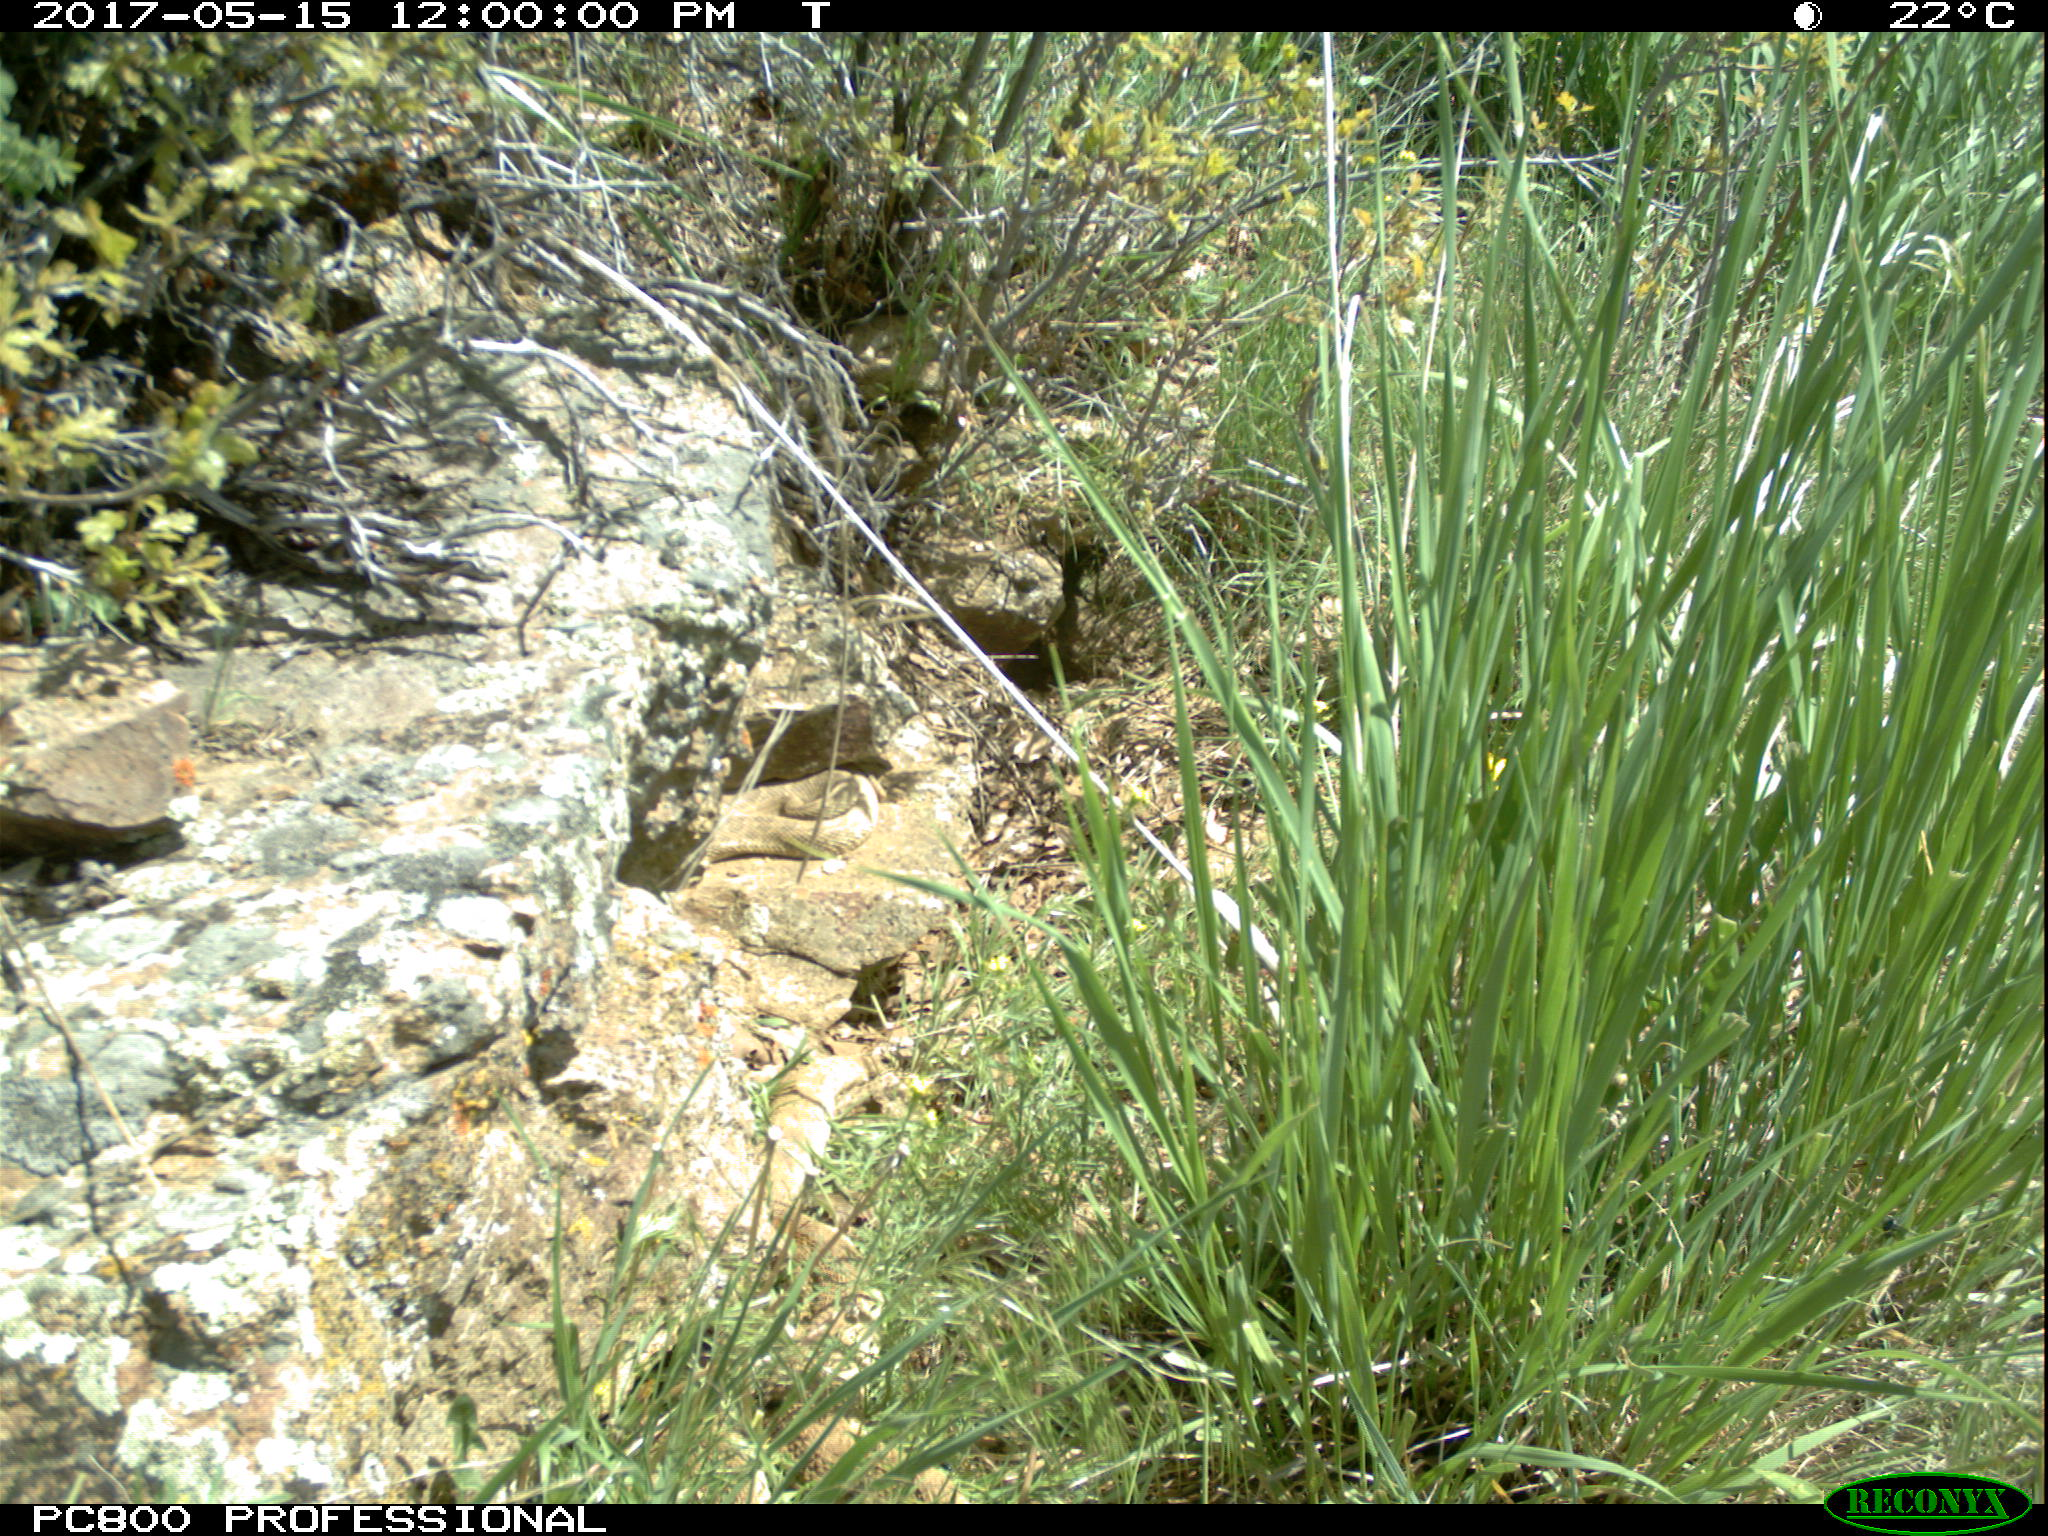snake: (763, 1049, 876, 1484), (714, 770, 880, 870)
